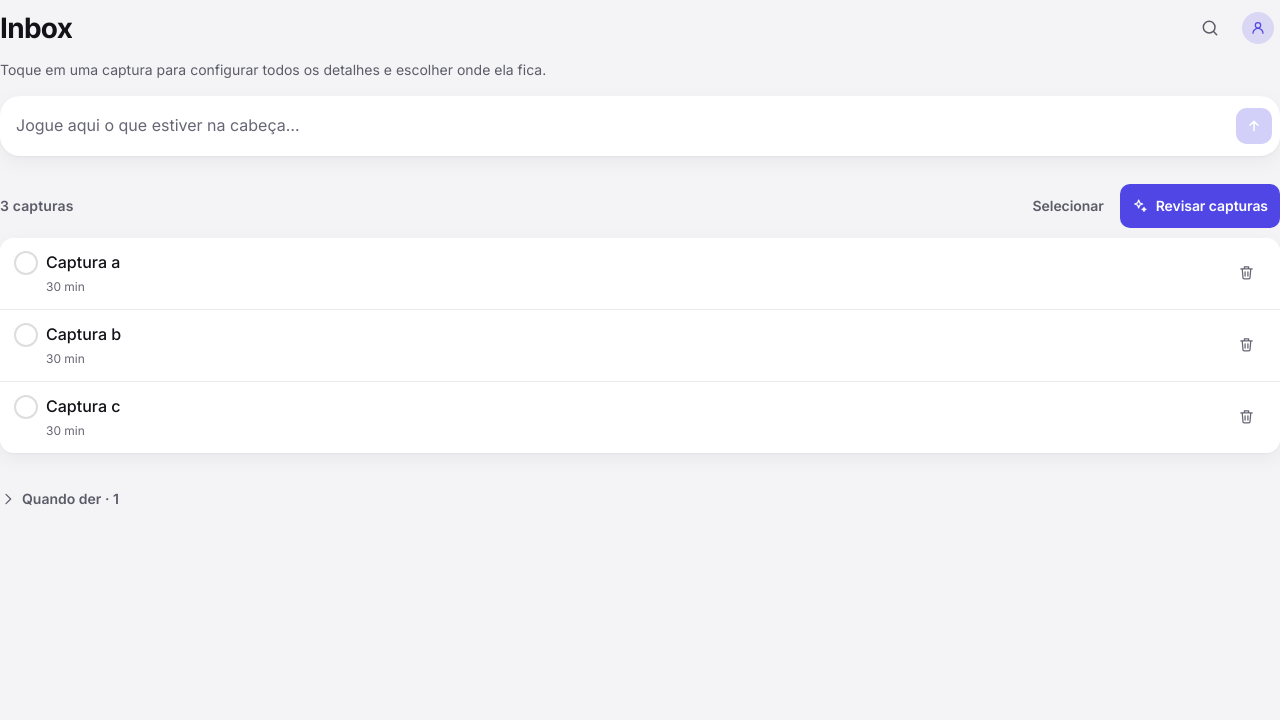
it: cancelar lixeira não abre editor, conclui ou remove a captura e devolve foco
Click the button named "Excluir captura: Captura a": (1246,272) [1224, 250, 1268, 294]
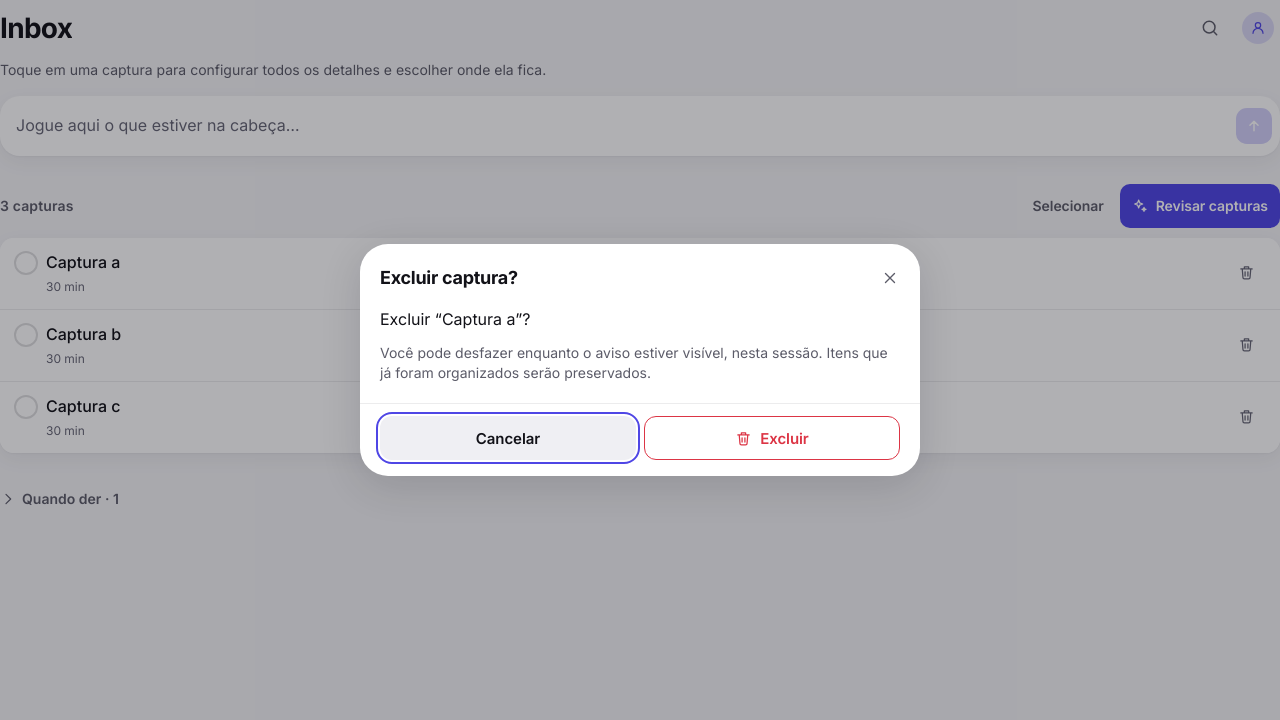
Check: the button "Cancelar" is shown
Click the button "Cancelar": (508,438) [380, 416, 636, 460]
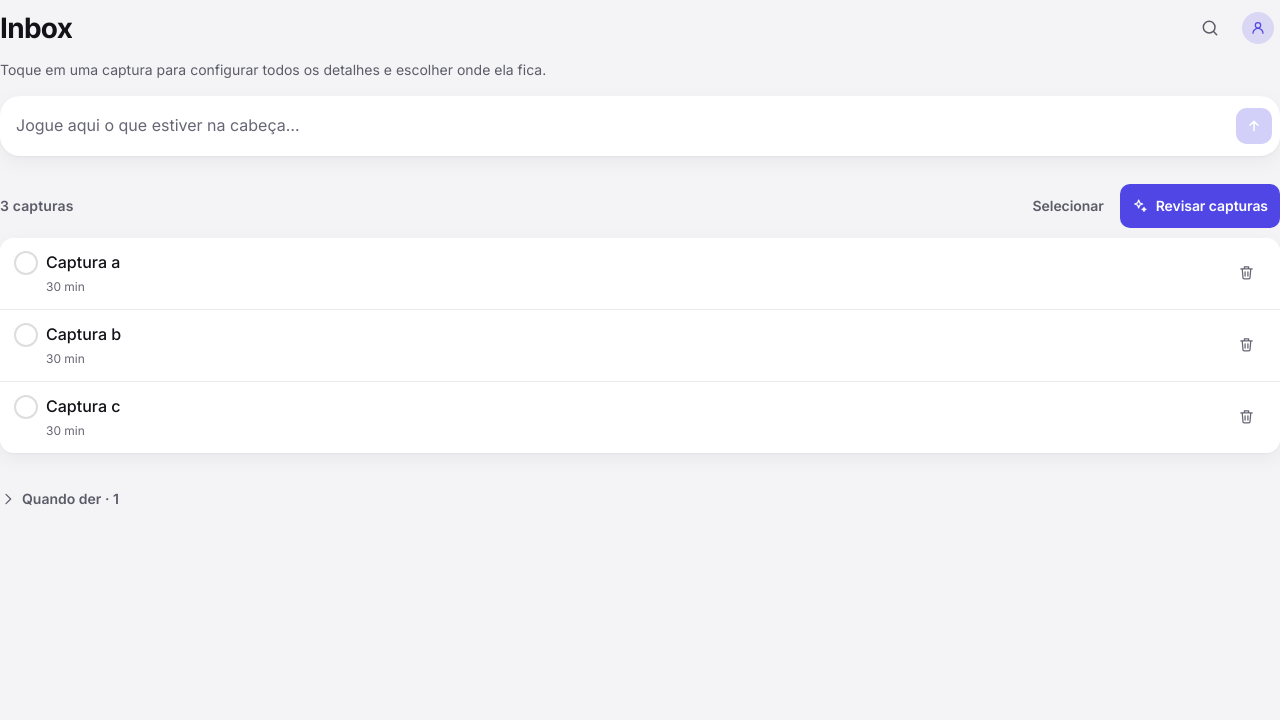
Check: the dialog is gone
